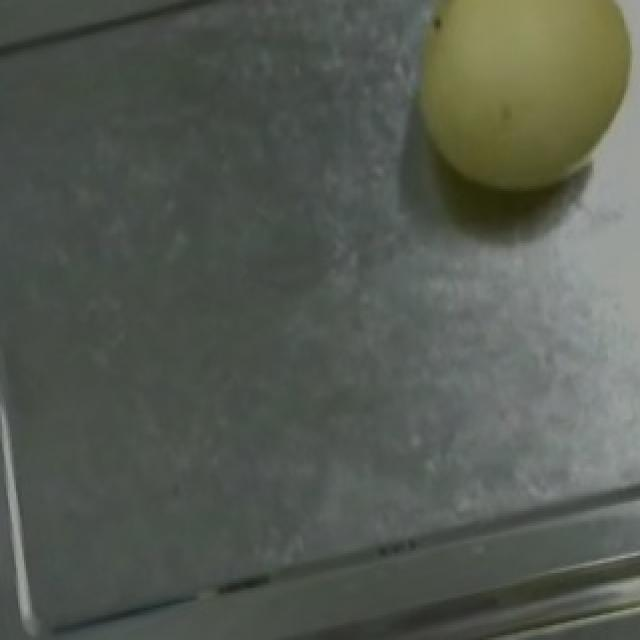Fruit: (372, 0, 640, 223)
